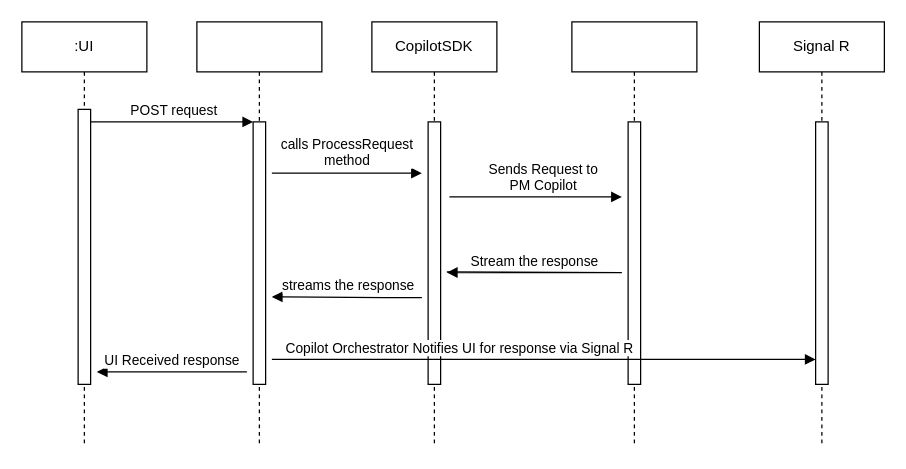
Some shapes in this 906 by 469 pixel diagram are drawn without their labels. The shapes that lost their labels are listed below. From the top down, each one's box as (x1, y1, x2, y2) in pixels, then its label:
(196, 21, 322, 447): Copilot Orchestrator
(571, 21, 697, 447): PM Copilot
